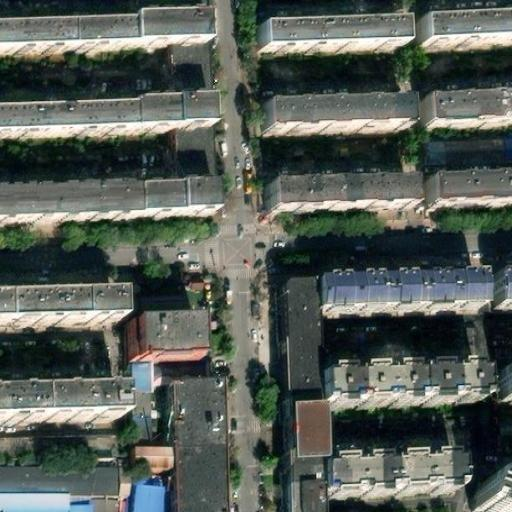building: (313, 364, 481, 413), (307, 276, 481, 318), (164, 394, 223, 512), (0, 181, 167, 222), (318, 452, 458, 493), (256, 94, 403, 131), (273, 292, 314, 424), (259, 176, 405, 212), (254, 15, 398, 50), (0, 18, 122, 52), (420, 136, 512, 172), (420, 8, 512, 43), (130, 337, 197, 380), (422, 172, 512, 204), (425, 91, 512, 123), (121, 17, 203, 50), (279, 422, 317, 491), (458, 481, 512, 512), (122, 101, 166, 133), (166, 180, 204, 217), (125, 456, 167, 486), (165, 100, 203, 131), (487, 270, 512, 308), (490, 366, 512, 402), (126, 485, 154, 512), (283, 490, 317, 512)
